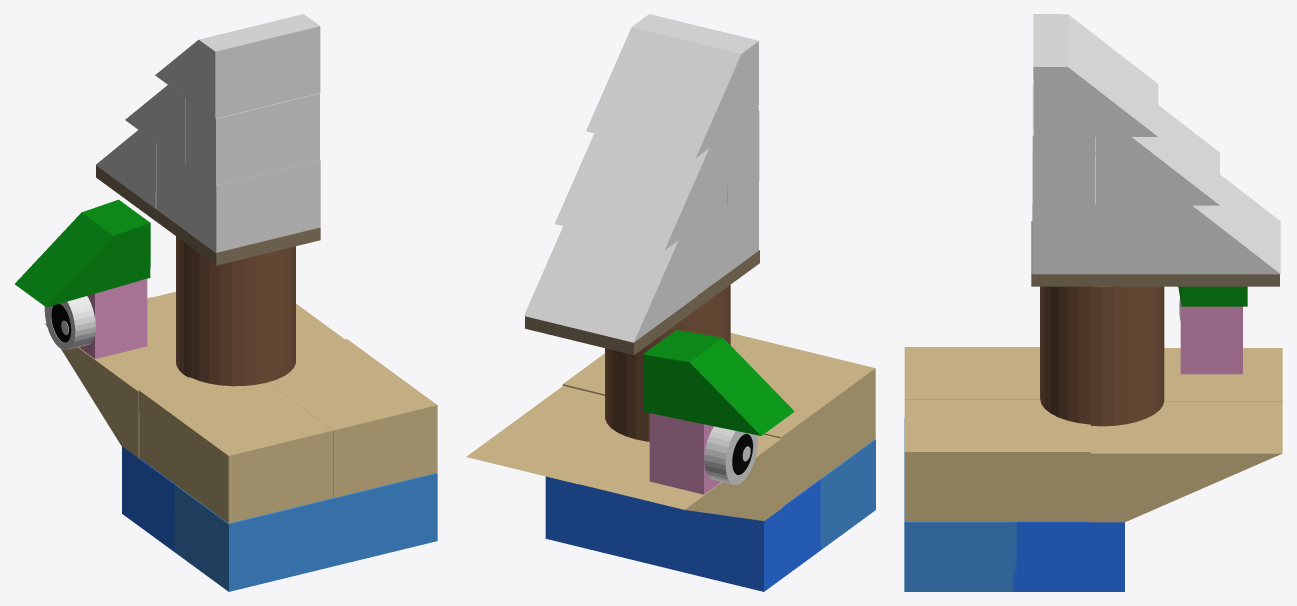
File: dumbIdiotBoat.fbx
The picture shows the model from 3 angles, left to right: view 1: azimuth 30°, elevation 25°; view 2: azimuth 150°, elevation 25°; view 3: azimuth 270°, elevation 25°; orthographic projection. The views are drawn at different scales.
Visible parts, largest first — view 1: fishtailbase.001, ElephantBody_B.003, fishtailbase.002, Cylinder.015, backtopfin.003, ElephentLeg_F.013, ElephentLeg_F.014, rightfin.003, backbottomfin.001, ElephentLeg_F.015, ElephantBody_B.002, Cube.002 (+4 smaller); view 2: ElephantBody_B.002, backtopfin.003, backtopfin.002, backtopfin.001, fishtailbase.001, rightfin.003, backbottomfin.002, backbottomfin.001, Cylinder.015, ElephentLeg_F.013, ElephentLeg_F.015, ElephantBody_B.003 (+5 smaller); view 3: fishtailbase.002, Cylinder.015, backbottomfin.002, backtopfin.003, backtopfin.001, backtopfin.002, ElephentLeg_F.013, ElephantBody_B.003, ElephantBody_B.002, fishtailbase.001, backbottomfin.001, ElephentLeg_F.014 (+3 smaller).
Boxes of the visible parts, x1,y1,x2,y2 form: fishtailbase.001: (138,377,332,523); ElephantBody_B.003: (174,473,437,591); fishtailbase.002: (268,339,437,497); Cylinder.015: (176,236,295,386); backtopfin.003: (155,14,320,118); ElephentLeg_F.013: (156,143,320,252); ElephentLeg_F.014: (185,93,319,186); rightfin.003: (15,199,150,307); backbottomfin.001: (45,297,187,458); ElephentLeg_F.015: (79,278,147,358); ElephantBody_B.002: (122,446,176,551); Cube.002: (96,165,320,265); ElephantBody_B.002: (545,476,820,591); backtopfin.003: (586,14,758,157); backtopfin.002: (554,133,727,250); backtopfin.001: (524,226,696,342); fishtailbase.001: (743,341,875,506); rightfin.003: (643,330,794,435); backbottomfin.002: (466,386,632,484); backbottomfin.001: (573,434,782,520); Cylinder.015: (605,285,730,441); ElephentLeg_F.013: (696,182,758,295); ElephentLeg_F.015: (649,413,721,494); ElephantBody_B.003: (818,439,875,549); fishtailbase.002: (904,399,1090,521); Cylinder.015: (1040,286,1164,426); backbottomfin.002: (1089,402,1282,522); backtopfin.003: (1033,14,1158,136); backtopfin.001: (1156,174,1280,274); backtopfin.002: (1095,105,1219,205); ElephentLeg_F.013: (1032,152,1156,274); ElephantBody_B.003: (904,417,1016,591); ElephantBody_B.002: (1013,521,1124,591); fishtailbase.001: (904,347,1040,399); backbottomfin.001: (1164,348,1282,401); ElephentLeg_F.014: (1032,83,1094,204).
Size of the model in its own units: 337 by 594 by 410.
